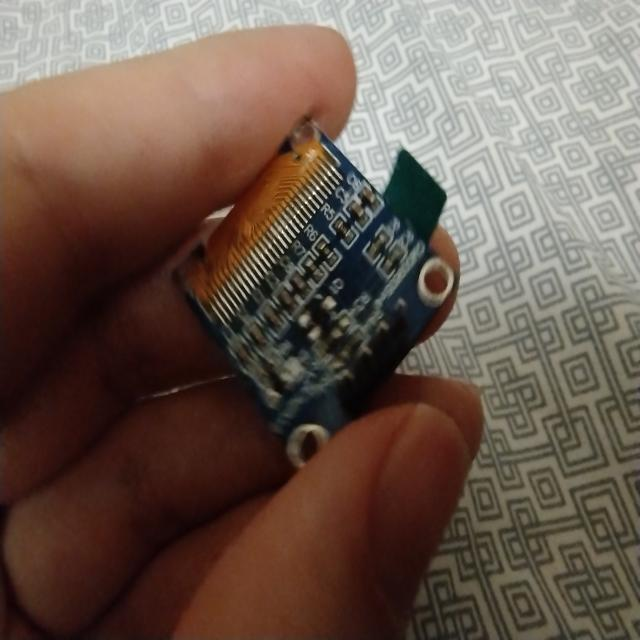oled: (179, 113, 461, 491)
